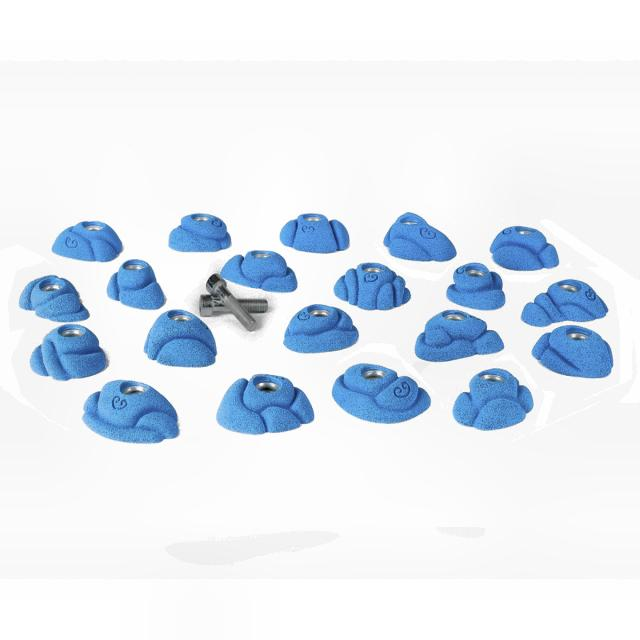Hold: (78, 378, 180, 444), (449, 362, 537, 432), (334, 364, 432, 424), (213, 376, 315, 432), (421, 310, 509, 362), (144, 309, 222, 367), (512, 280, 610, 326), (280, 302, 366, 352), (27, 322, 107, 375), (384, 205, 456, 262), (530, 330, 612, 380), (22, 272, 95, 321), (48, 217, 123, 264), (220, 247, 302, 288), (331, 264, 406, 308), (490, 222, 555, 270), (112, 254, 166, 310), (277, 214, 345, 255), (449, 264, 504, 311), (174, 210, 229, 253)
